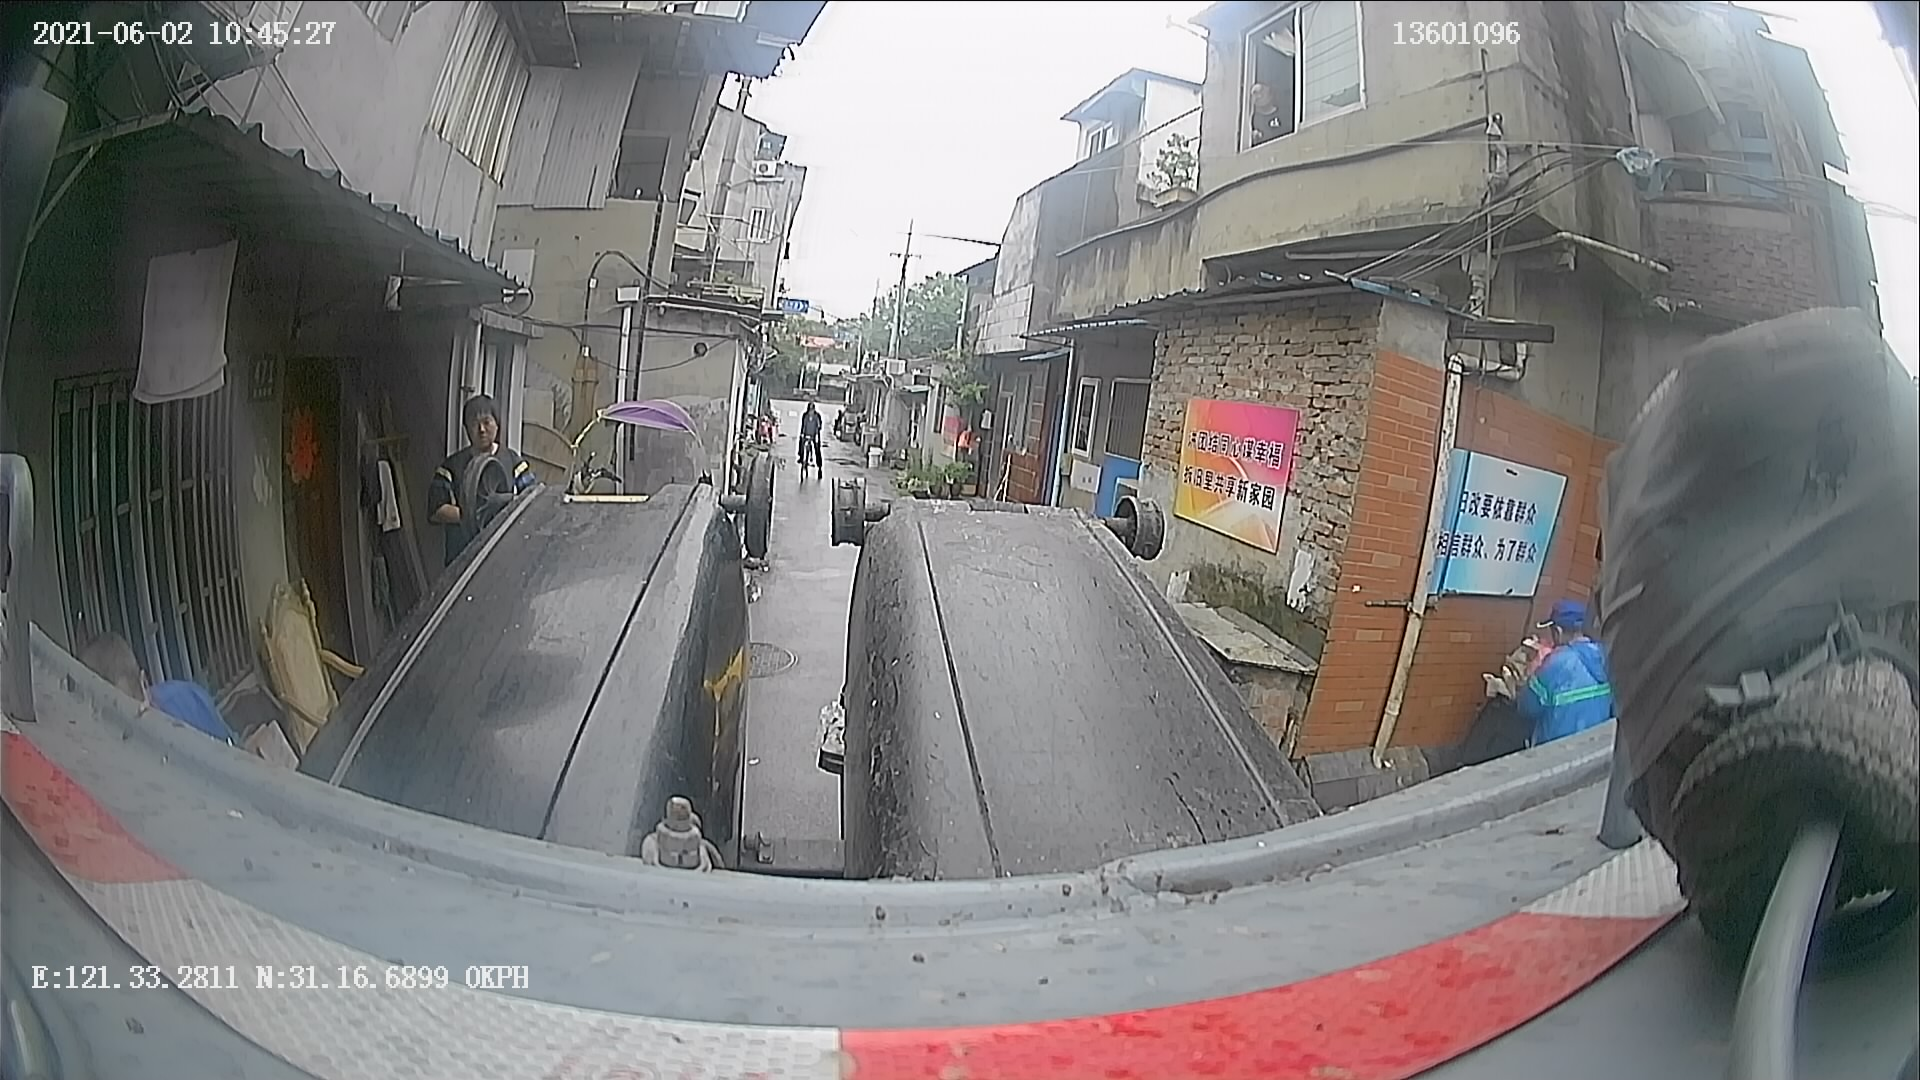Dry_garbage: (281, 434, 785, 961), (804, 451, 1292, 978)
